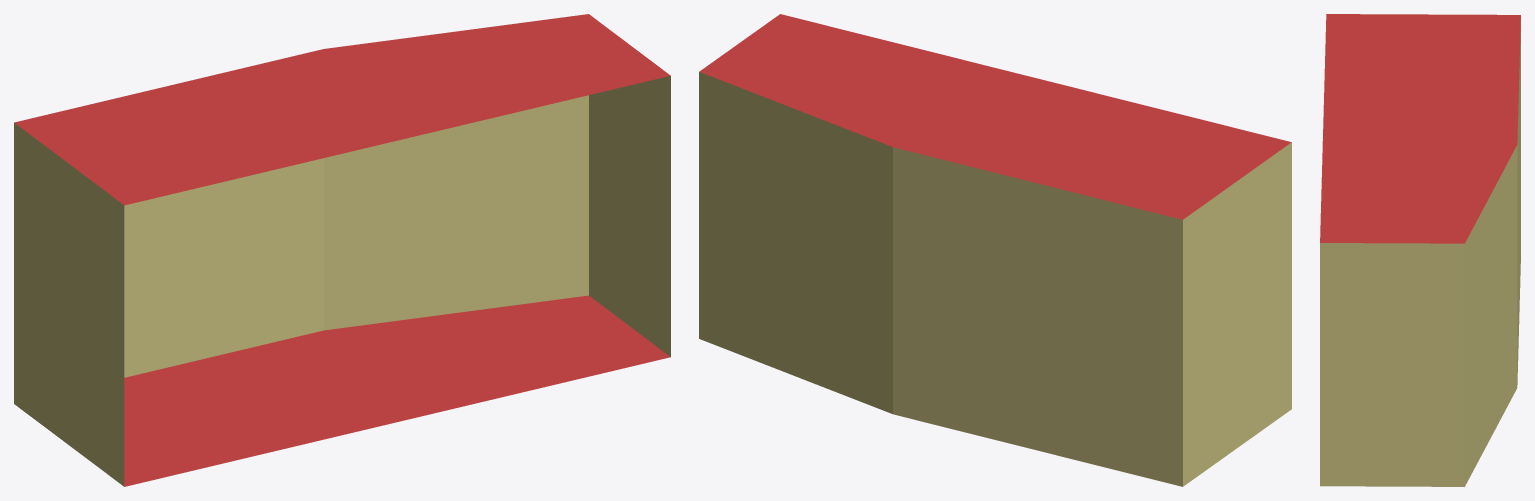
3 views of the same model, side by side, from view 1: azimuth 30°, elevation 25°; view 2: azimuth 150°, elevation 25°; view 3: azimuth 270°, elevation 25° (orthographic). The views are drawn at different scales.
Parts seen in each view (by area): view 1: group_4, group_3, group_5; view 2: group_4, group_3; view 3: group_4, group_3.
Boxes of the visible parts, bbox=[...] form: group_4: bbox=[14, 75, 670, 486]; group_3: bbox=[14, 14, 670, 205]; group_5: bbox=[124, 295, 670, 486]; group_4: bbox=[699, 72, 1291, 486]; group_3: bbox=[699, 14, 1291, 219]; group_4: bbox=[1320, 20, 1520, 486]; group_3: bbox=[1320, 14, 1520, 243].
Bounding box in the file's own units: 14.77 × 5.46 × 7.3.
